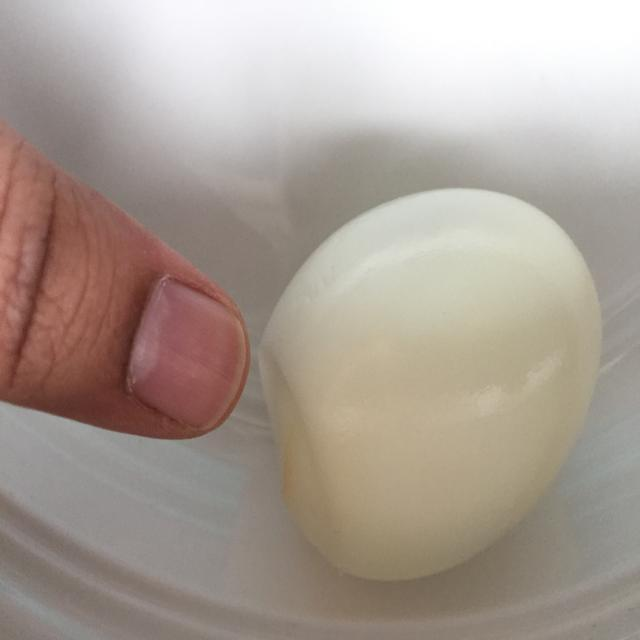Egg: (251, 178, 612, 590)
Finger: (2, 136, 255, 452)
